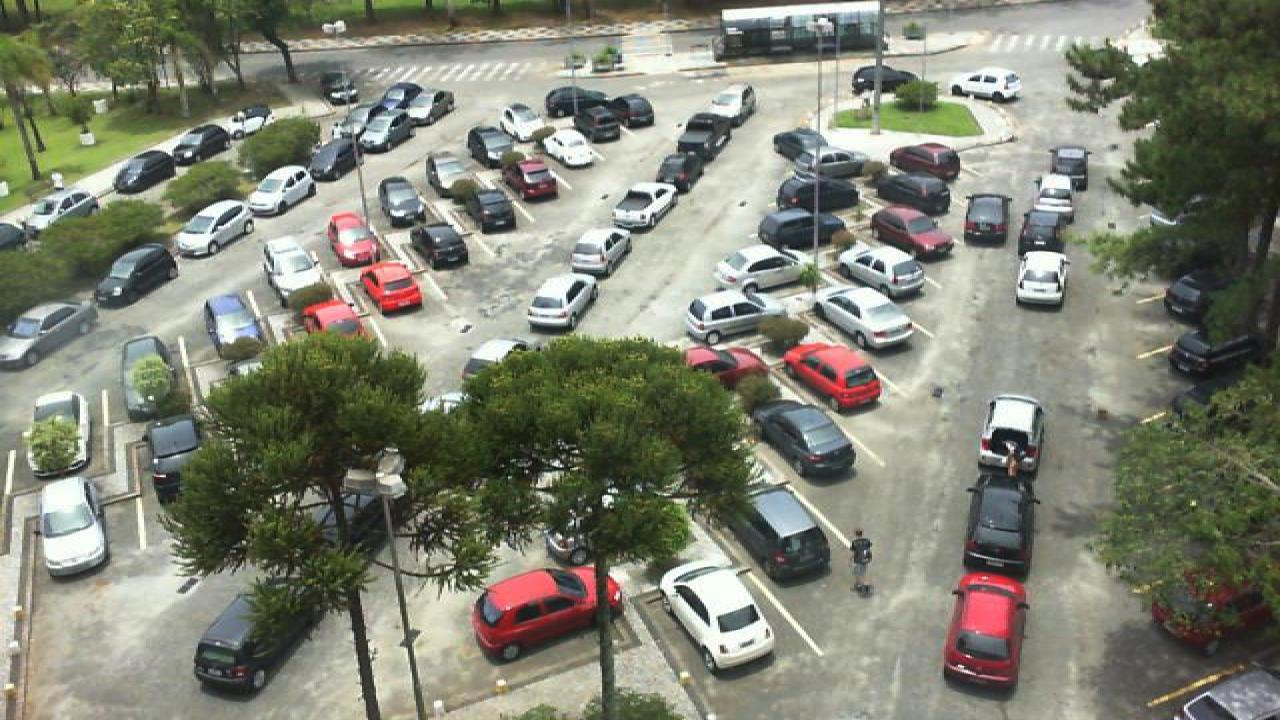Car: (470, 564, 626, 666), (654, 559, 780, 674), (192, 585, 324, 692), (938, 572, 1032, 692), (730, 481, 834, 580), (752, 397, 858, 477), (958, 474, 1040, 572), (32, 475, 110, 577), (780, 340, 884, 413), (812, 283, 918, 350), (0, 299, 100, 368), (20, 389, 92, 476), (90, 244, 178, 312), (976, 394, 1046, 476), (684, 287, 780, 346), (144, 414, 206, 504), (1166, 323, 1262, 380), (834, 243, 928, 300), (172, 198, 258, 258), (710, 243, 810, 293), (868, 204, 956, 259), (524, 272, 600, 334), (198, 289, 264, 360), (754, 207, 854, 252), (682, 342, 770, 392), (298, 297, 378, 350), (260, 235, 326, 297), (356, 258, 426, 315), (242, 165, 318, 217), (566, 228, 636, 283), (22, 187, 102, 234), (120, 334, 174, 402), (610, 180, 680, 232), (782, 145, 878, 182), (324, 210, 384, 269), (874, 172, 958, 214), (408, 217, 472, 272), (1164, 268, 1224, 325), (1014, 249, 1070, 307), (458, 181, 520, 233), (110, 153, 178, 196), (502, 154, 560, 204), (424, 149, 482, 199), (888, 142, 966, 179), (1024, 191, 1078, 244), (962, 191, 1014, 246), (948, 66, 1024, 103), (654, 144, 712, 192), (376, 173, 426, 227), (308, 135, 366, 181), (166, 124, 232, 164), (542, 127, 600, 170), (678, 112, 732, 158), (704, 82, 758, 126), (356, 108, 410, 152), (852, 64, 924, 97), (466, 122, 518, 166), (498, 100, 550, 144), (214, 102, 276, 138), (1044, 145, 1092, 190), (404, 86, 456, 126), (770, 127, 826, 163), (570, 104, 620, 142), (544, 86, 598, 120), (610, 92, 656, 128), (320, 70, 362, 107), (376, 82, 422, 114)
